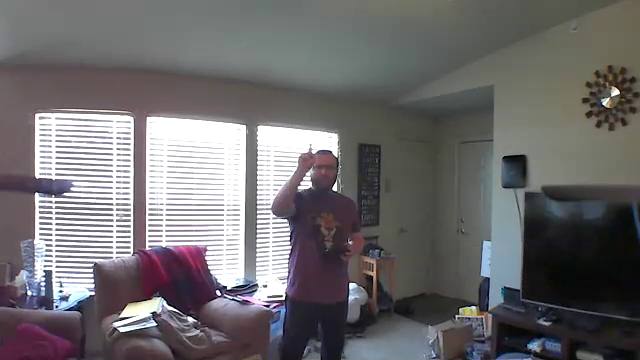up: (296, 142, 319, 173)
